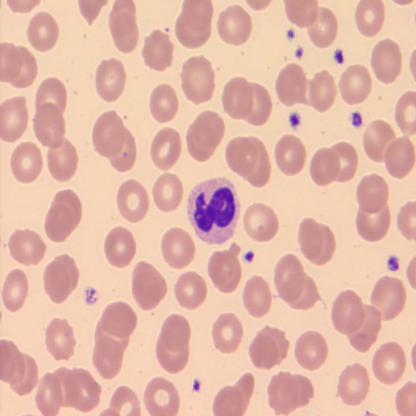Segmented neutrophil: (185, 176, 242, 246)
